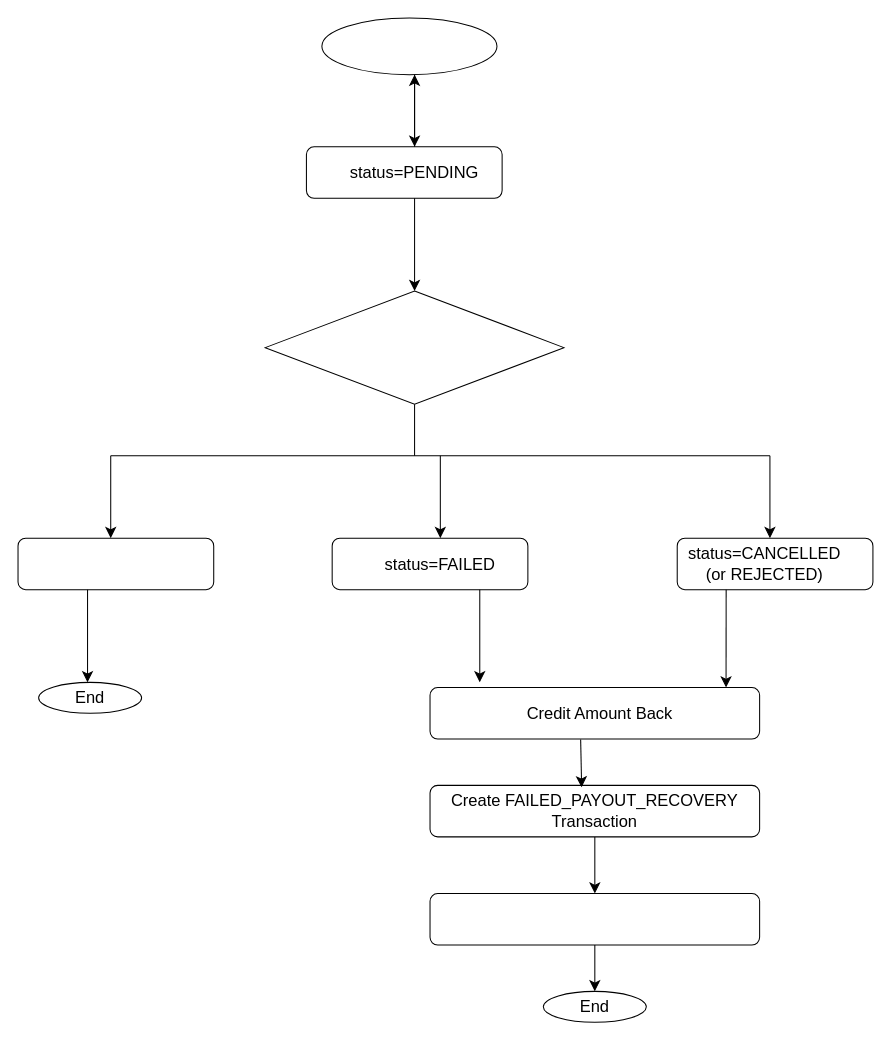
This 891x1040 diagram has some shape labels left out. The shapes that lost their labels are listed below. From the top down, each one's centre as x and y in pixels, then its label:
At pixel 409 46: "Withdrawal Created".
At pixel 414 347: "Withdrawal Status?".
At pixel 115 563: "status=SUCCESS".
At pixel 594 918: "User Can Withdraw Again".
